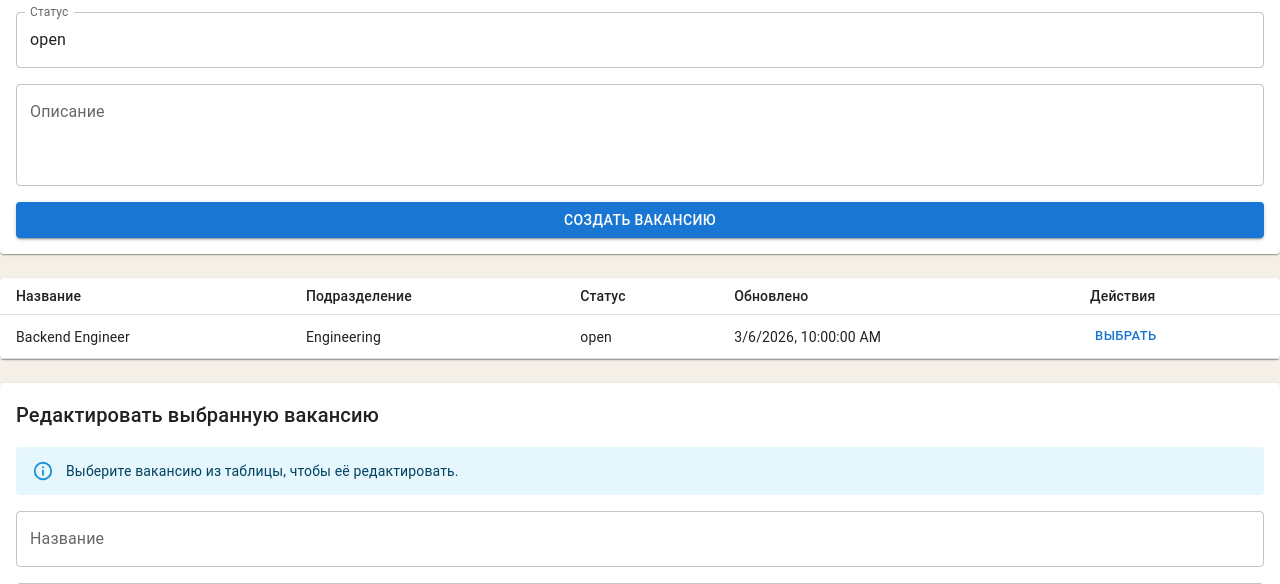
Test: HrDashboardPage › renders confidence and explanation for an existing successful score
(page scrolled)
Click the button "Выбрать".
click(1126, 337)  # box [1090,321,1162,352]
(page scrolled)
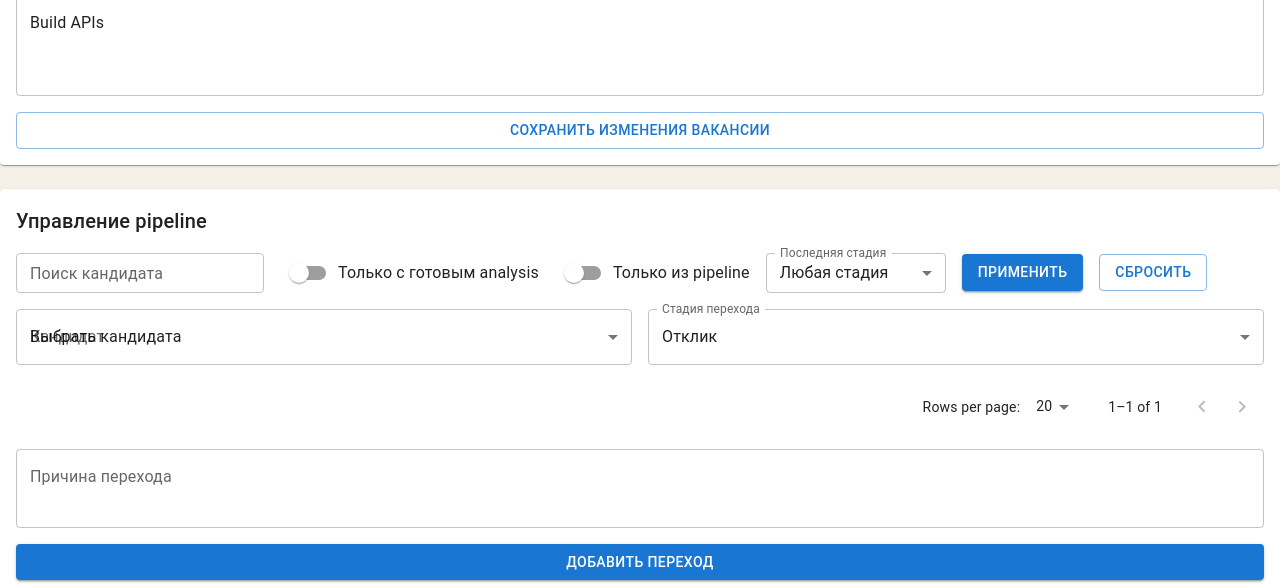
Select "John Doe (john@example.com)" in the dropdown labelled "Кандидат" at (324, 336), box [16,308,632,364]
(page scrolled)
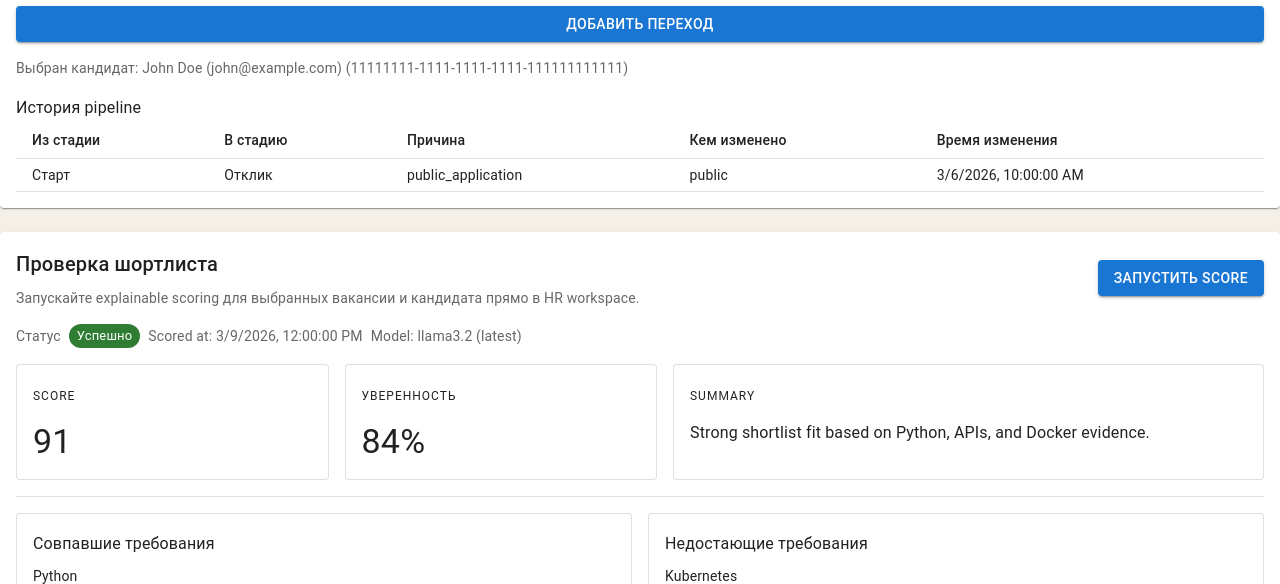
Expected: the heading "84%" is shown, [362,421,425,461]
Expected: the text "Strong shortlist fit based on Python, APIs, and Docker evidence" is shown, [690,423,1150,442]
Expected: the text "Model: llama3.2 (latest)" is shown, [371,326,522,346]
